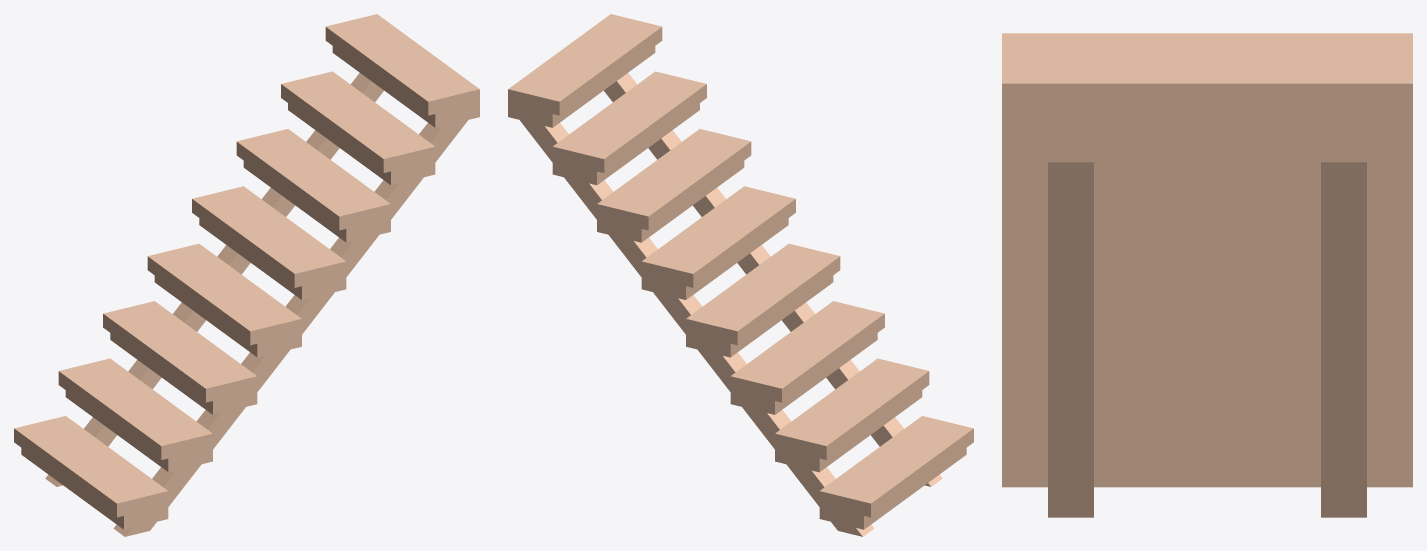
The picture shows the model from 3 angles, left to right: view 1: azimuth 30°, elevation 25°; view 2: azimuth 150°, elevation 25°; view 3: azimuth 270°, elevation 25°; orthographic projection. The views are drawn at different scales.
Parts seen in each view (by area): view 1: stairsWood; view 2: stairsWood; view 3: stairsWood.
Boxes of the visible parts, x1,y1,x2,y2 form: stairsWood: (14, 14, 479, 536); stairsWood: (508, 14, 973, 536); stairsWood: (1002, 33, 1412, 517).
Bounding box in the file's own units: 1.02 × 1 × 0.5.
